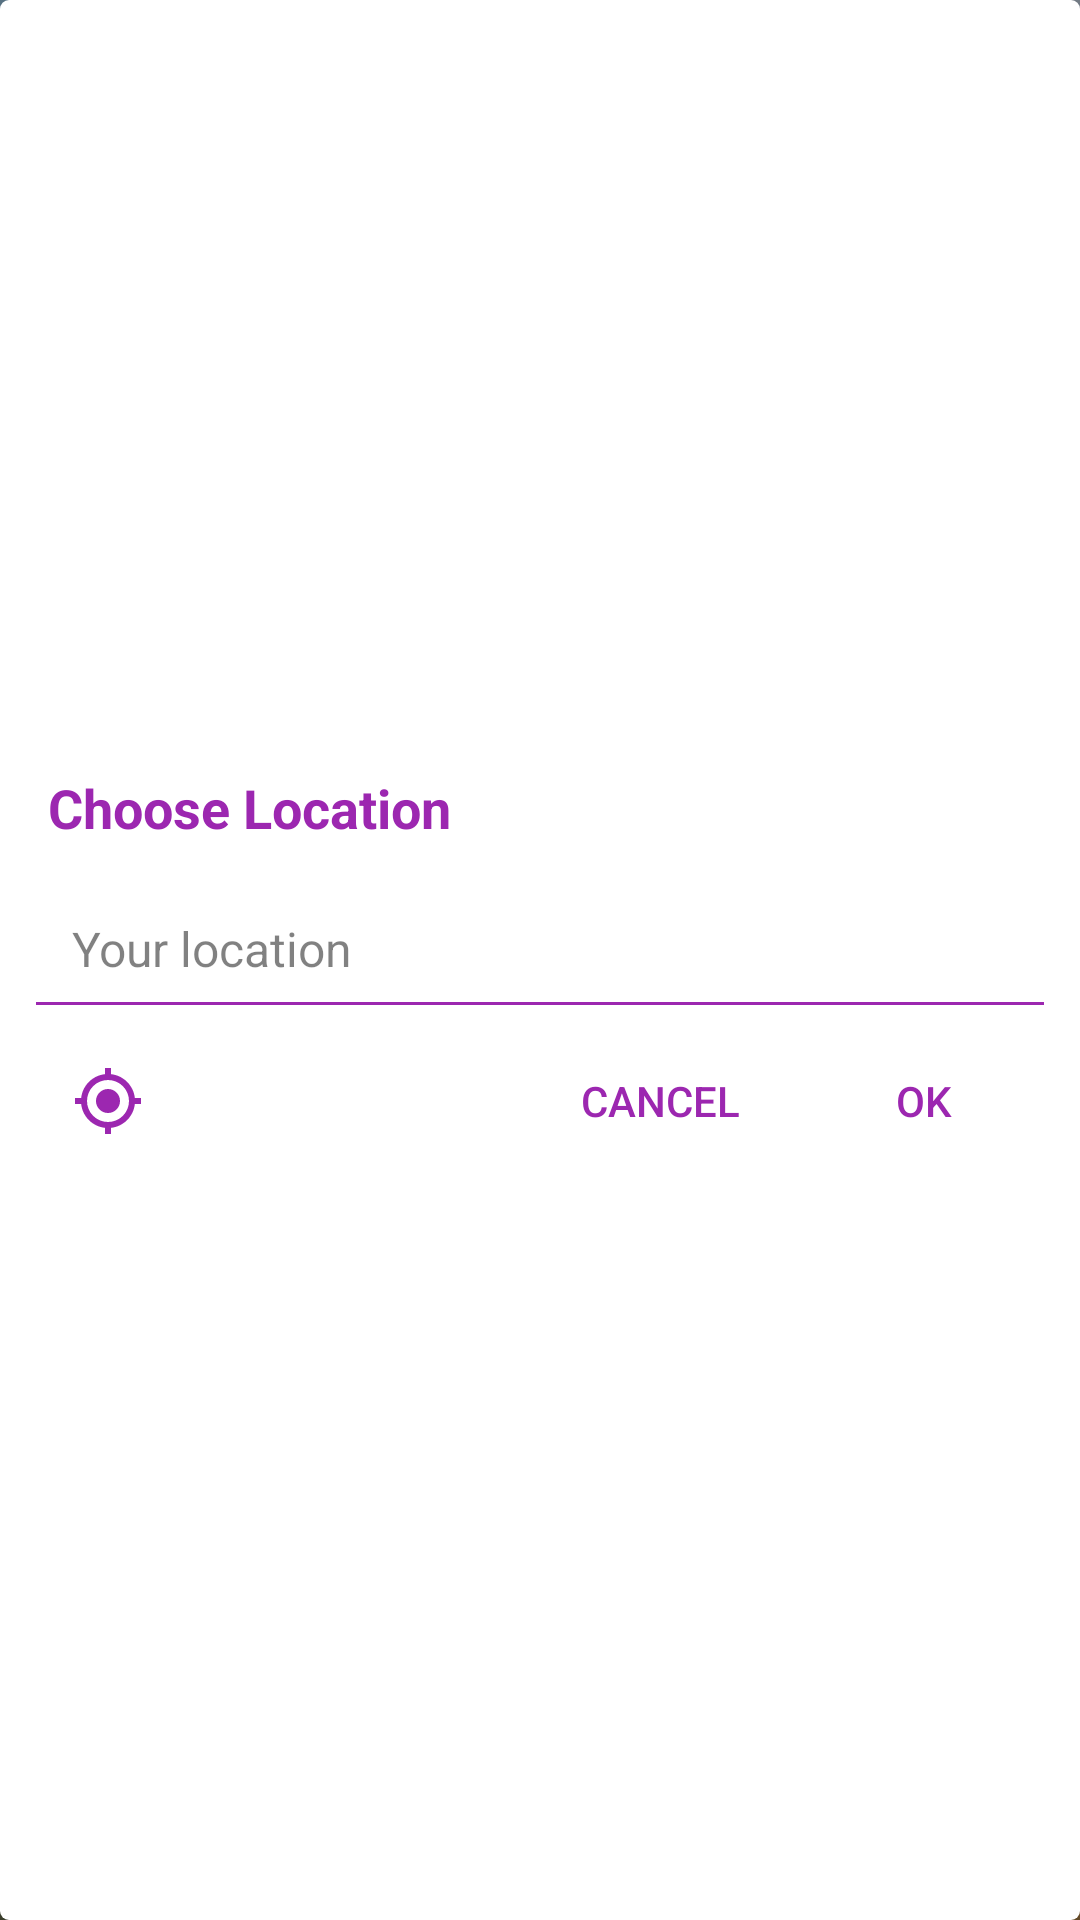

Locate icon controls on the screen. Image size 1080px x 1920px, boxes as (left=x1, top=y1, right=x2, bottom=y2).
location pupple: (left=75, top=1068, right=141, bottom=1134)
